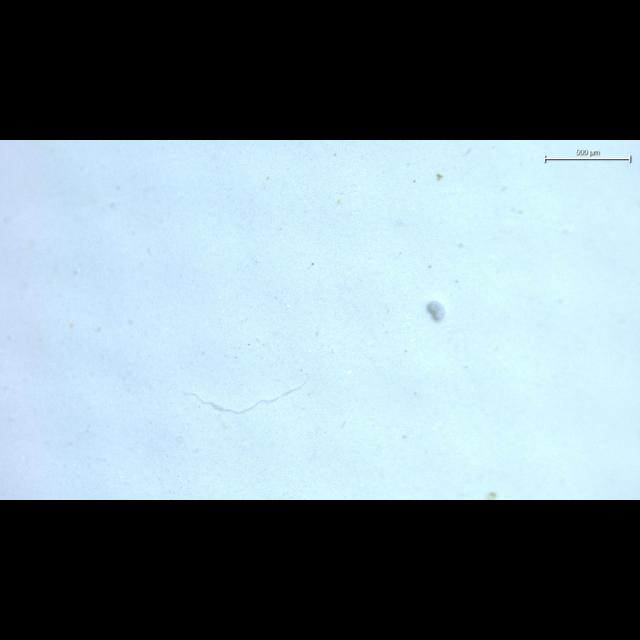Fibre: (181, 378, 309, 414)
Fragment: (427, 301, 446, 321)
